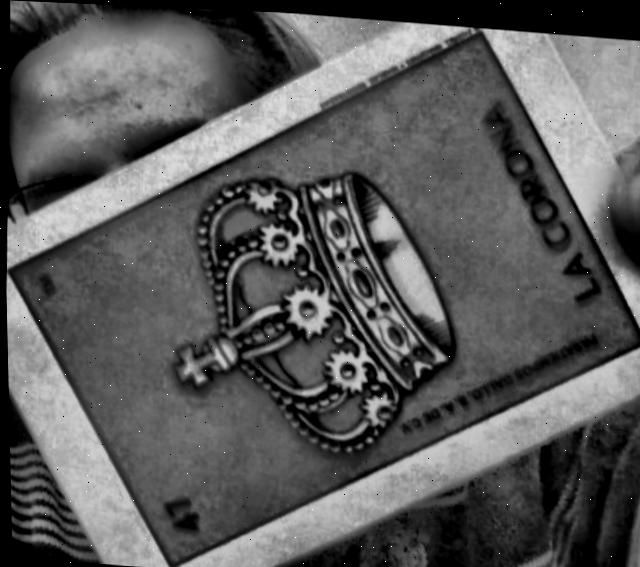La Corona: (11, 27, 640, 566)
